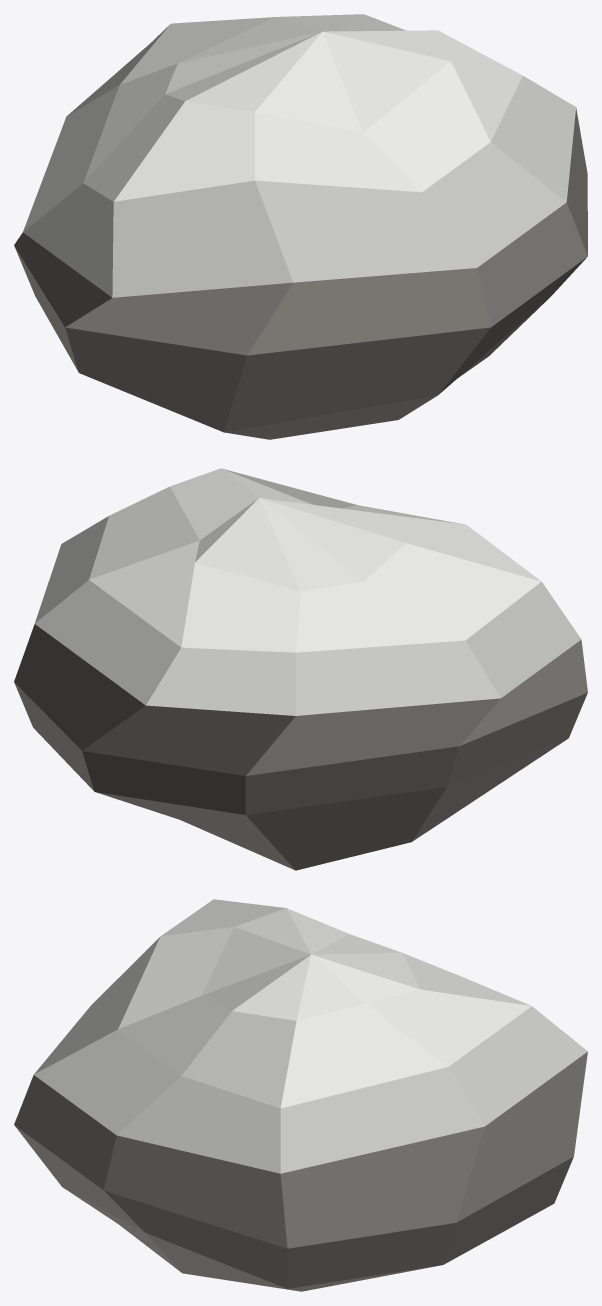
The model's file is piedra1contextura.fbx.
The picture shows the model from 3 angles, top to bottom: view 1: azimuth 30°, elevation 25°; view 2: azimuth 150°, elevation 25°; view 3: azimuth 270°, elevation 25°; orthographic projection. The views are drawn at different scales.
Parts seen in each view (by area): view 1: pSphere1; view 2: pSphere1; view 3: pSphere1.
Boxes of the visible parts, left/top/right/bottom form: pSphere1: left=14, top=14, right=587, bottom=439; pSphere1: left=14, top=468, right=587, bottom=870; pSphere1: left=14, top=899, right=587, bottom=1291.
Bounding box in the file's own units: 27.47 × 15.72 × 26.17.
1 material, 1 textured.
